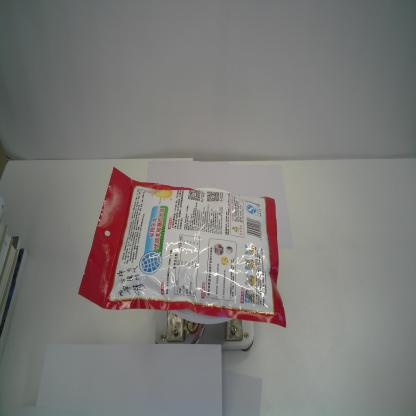Instant Drink: (77, 166, 287, 328)
